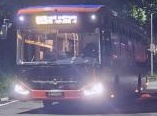bus: (34, 14, 48, 24)
